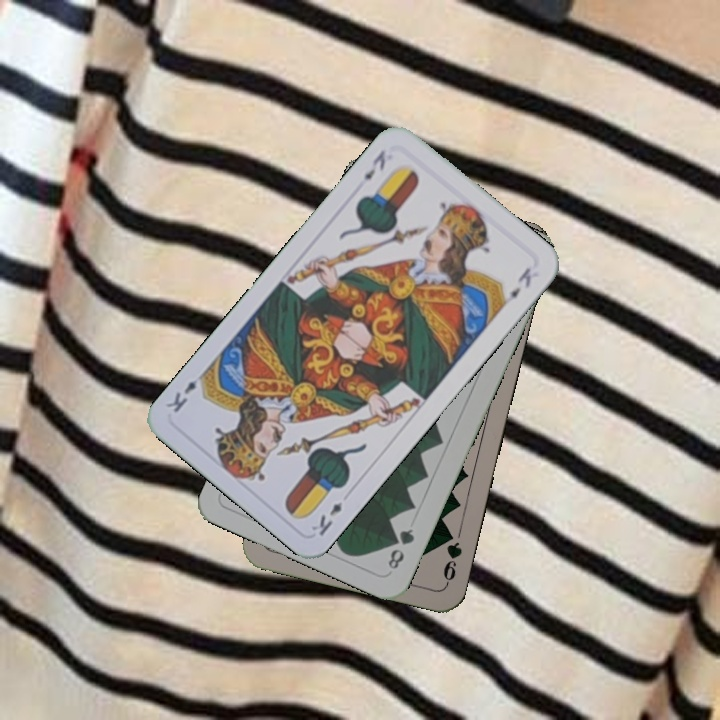EK: (307, 498, 345, 539), (359, 145, 389, 183)
G8: (384, 524, 417, 572)
G9: (439, 527, 465, 587)
